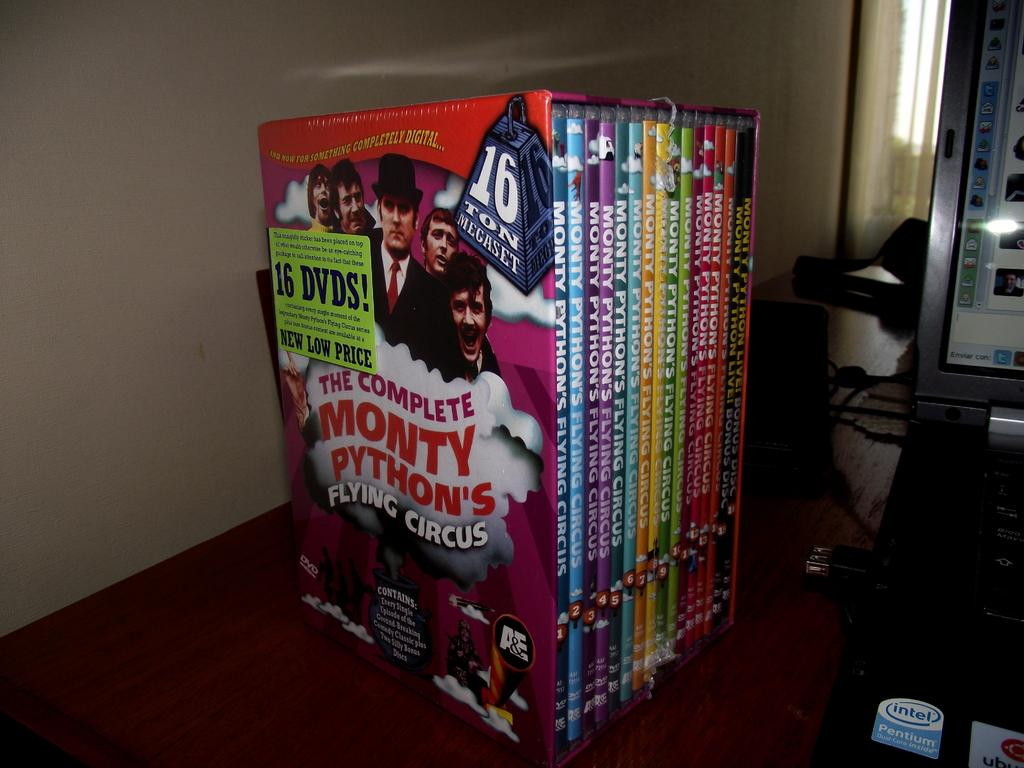Book: (260, 47, 806, 740)
